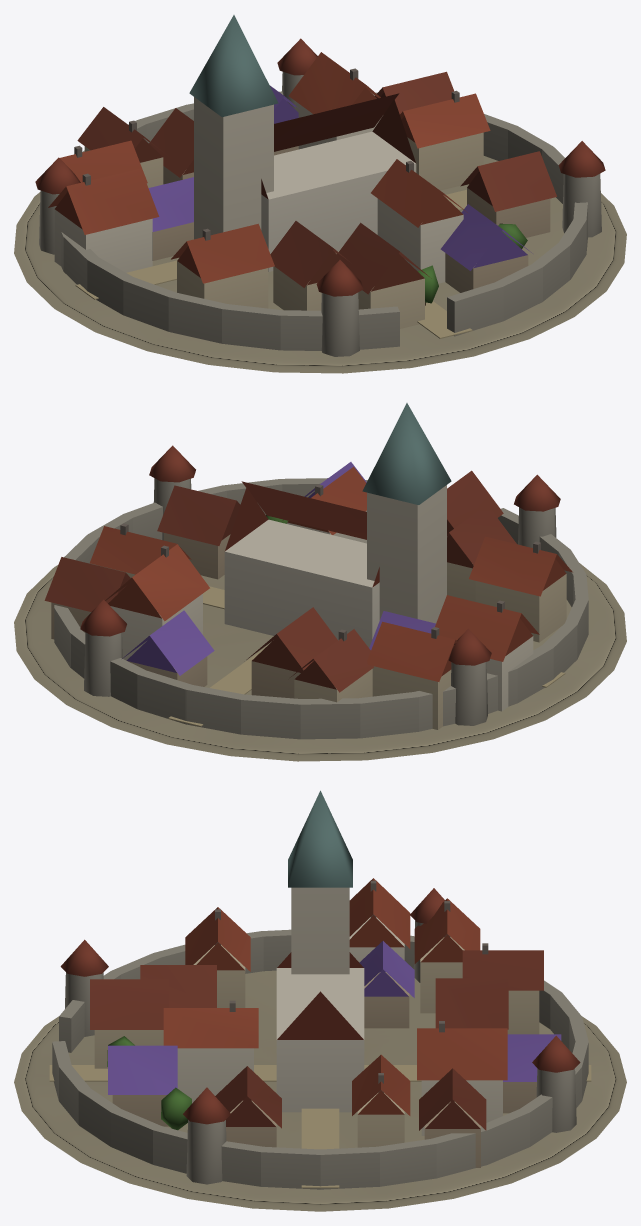
File: settlement_2_4.glb
3 renders of one model, top to bottom at view 1: azimuth 30°, elevation 25°; view 2: azimuth 150°, elevation 25°; view 3: azimuth 270°, elevation 25°, orthographic.
Parts seen in each view (by area): view 1: part_0; view 2: part_0; view 3: part_0.
Part boxes in pixels (left/top/right/bottom): part_0: left=14, top=15, right=626, bottom=373; part_0: left=14, top=403, right=626, bottom=761; part_0: left=14, top=790, right=626, bottom=1211.
Size of the model in its own units: 32.8 by 14.76 by 32.8.
